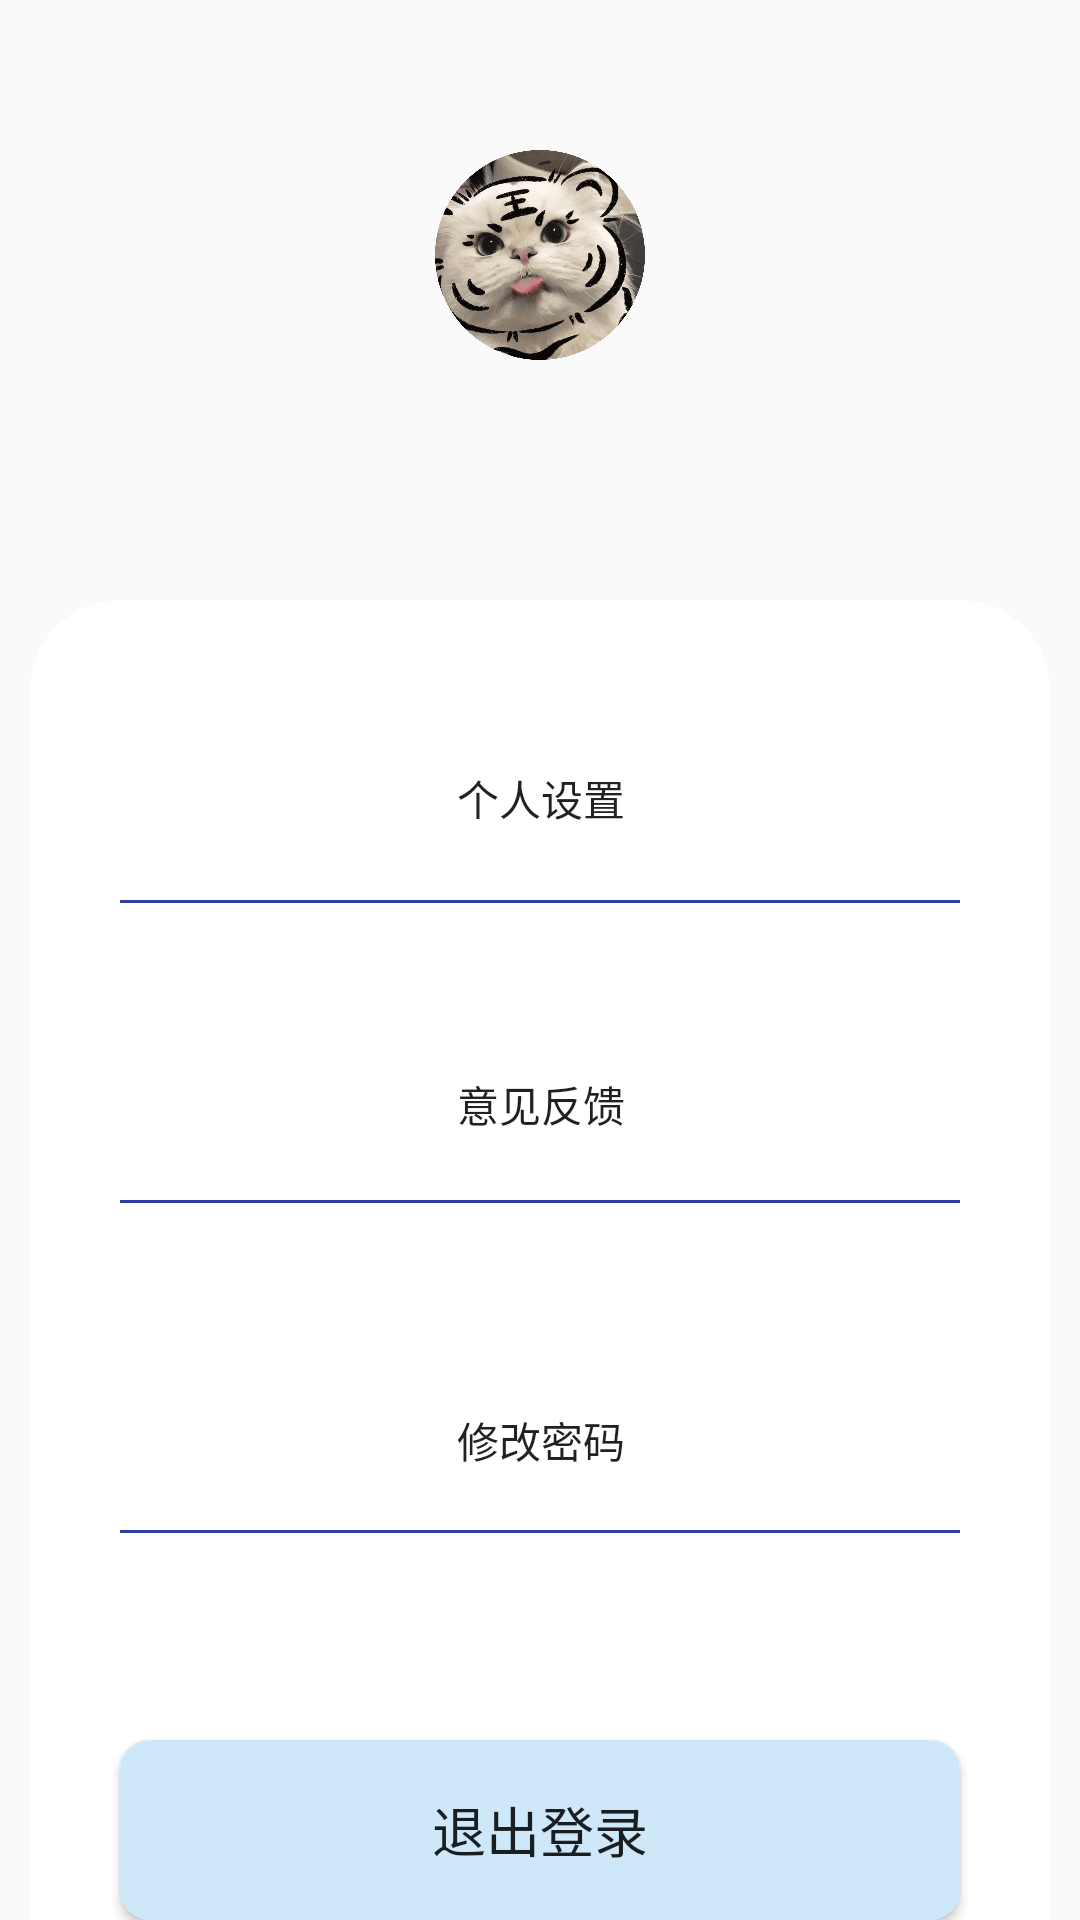

Where to tap for icons on this 1080x1920 app screen, as (x=x, y=y):
cats: (x=540, y=255)
